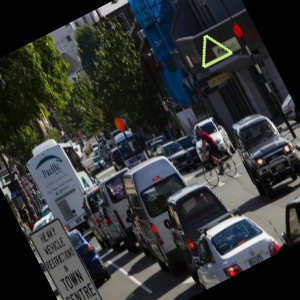triangle: (199, 35, 234, 69)
